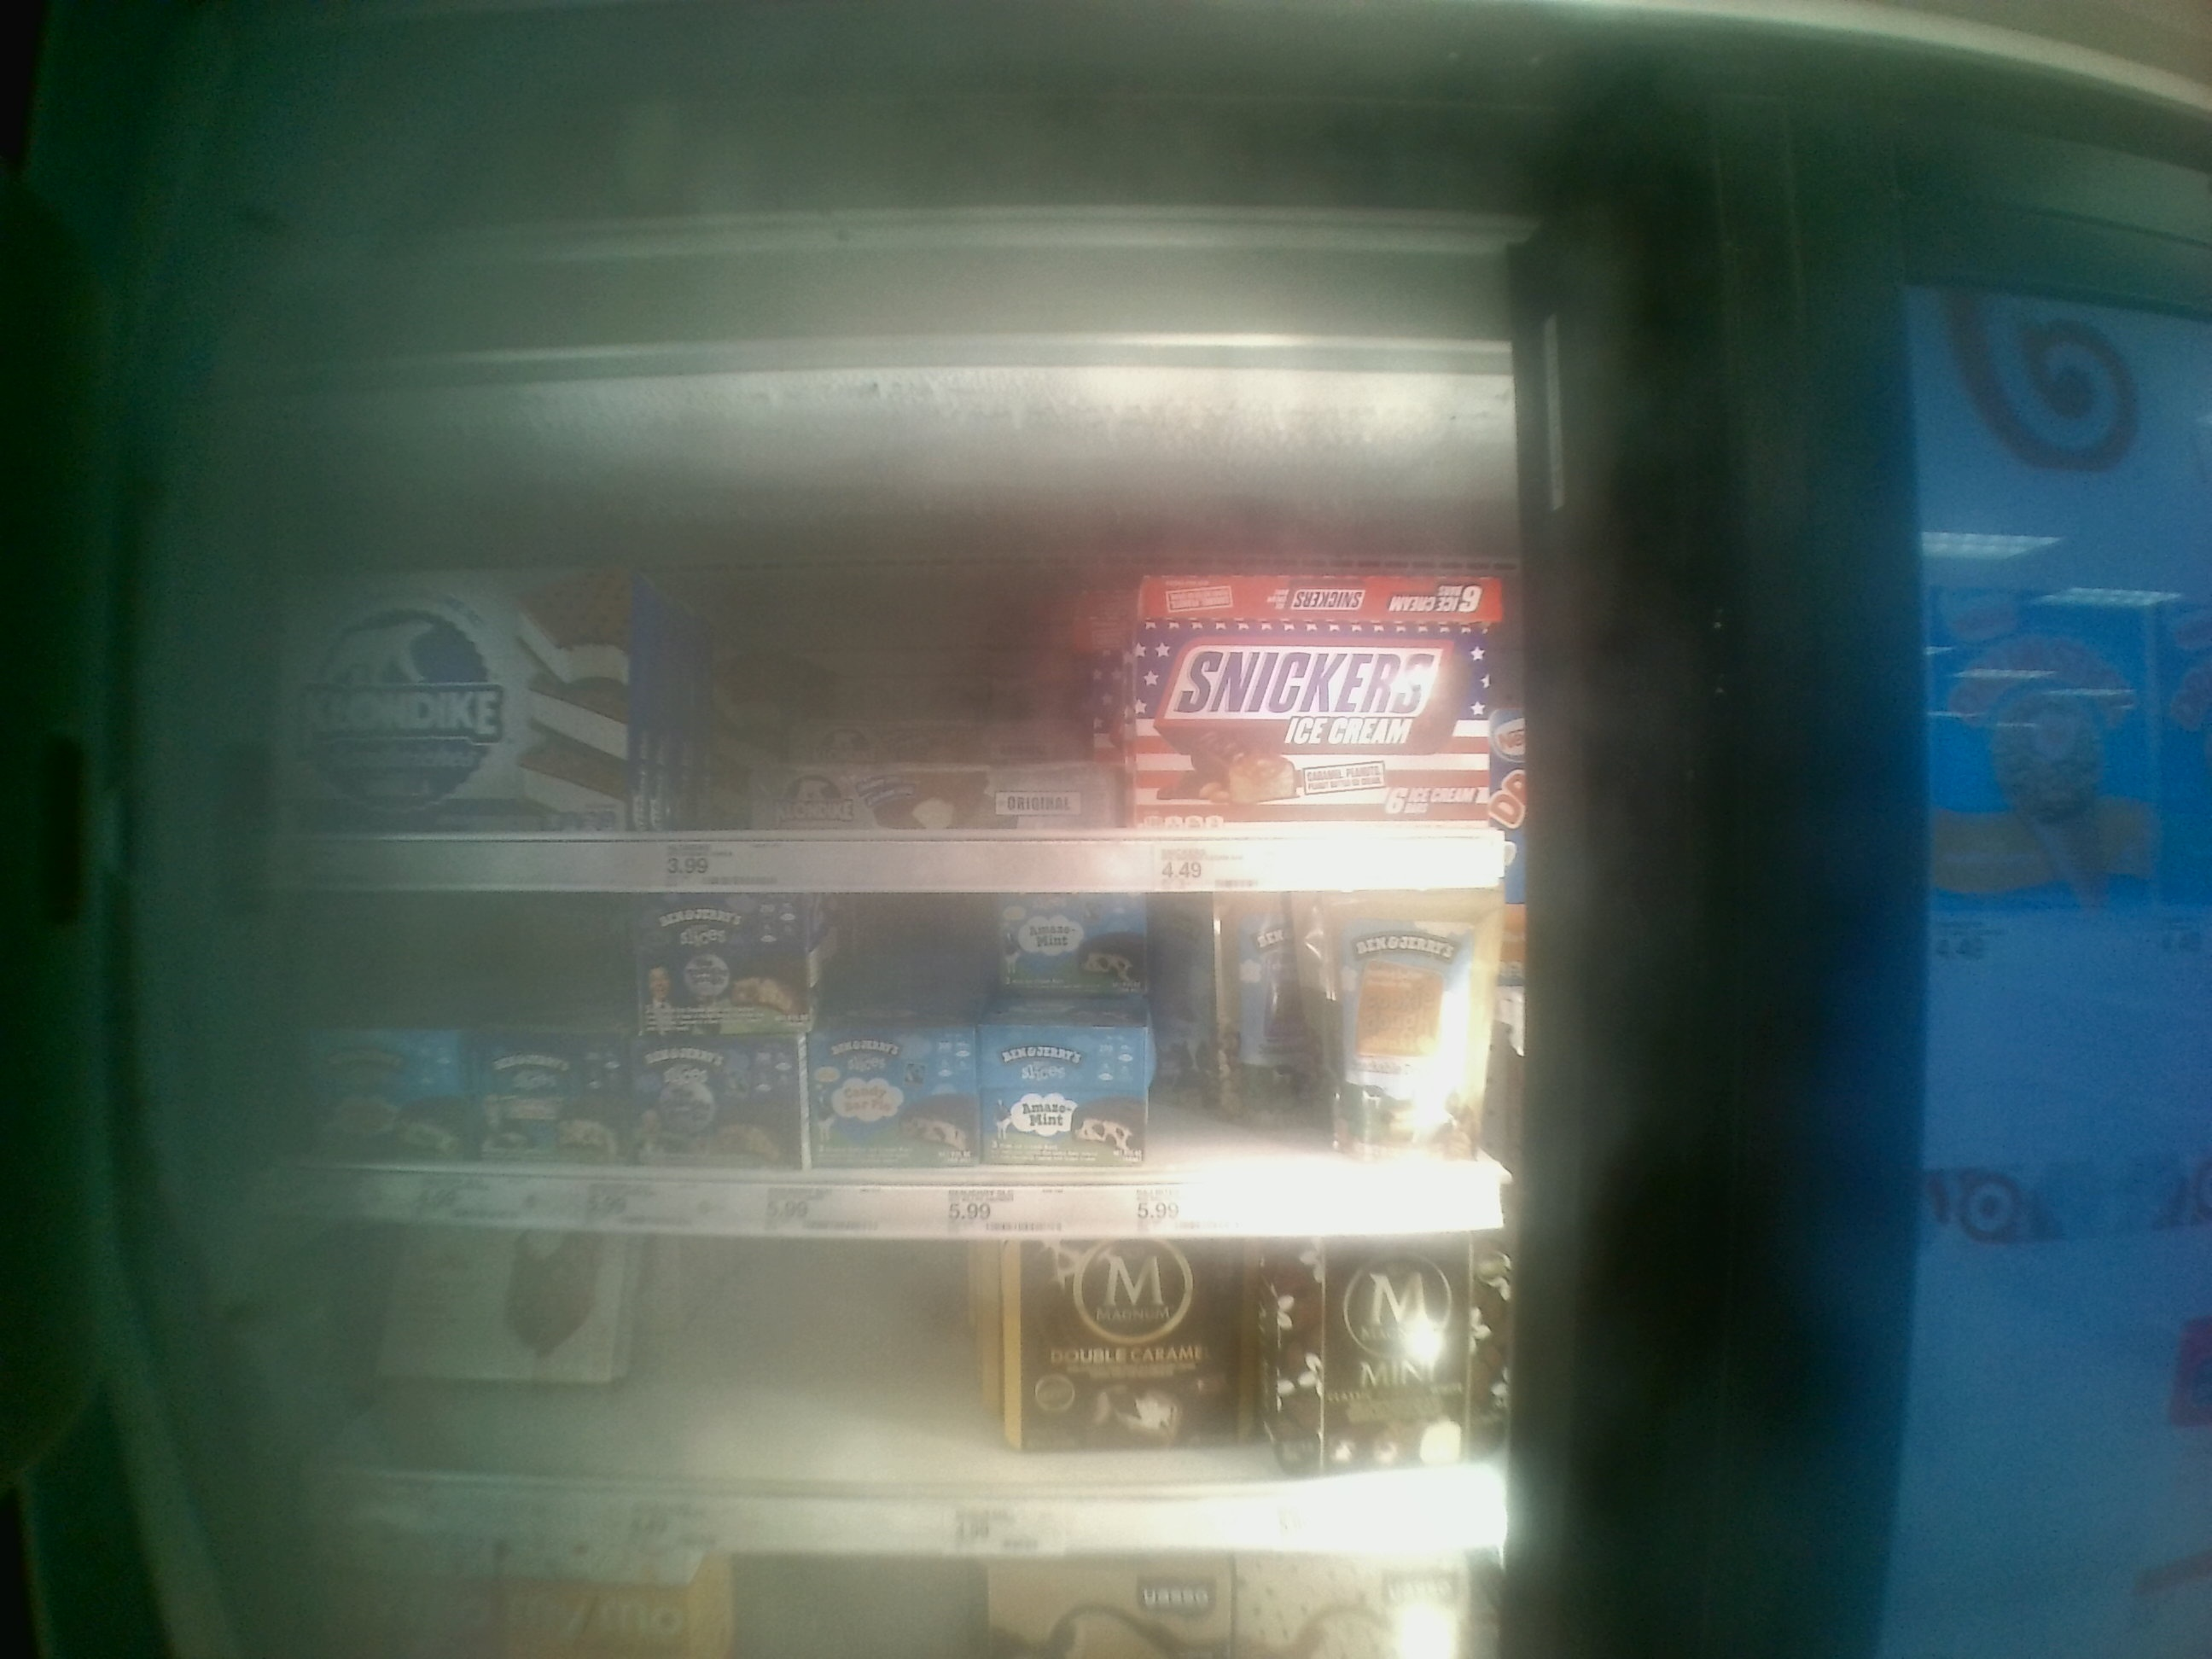ice-cream-shelf: (273, 380, 1531, 889), (275, 892, 1531, 1234), (275, 1243, 1524, 1554)
